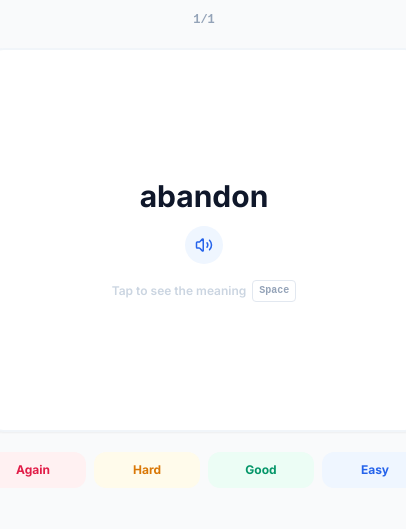
Test: PersonalFlashcardSession › a genuine failure shows an inline error
This screenshot has width=406, height=529.
Step 1. Click the button "Good" → x=261, y=470, box [208,452,314,488]
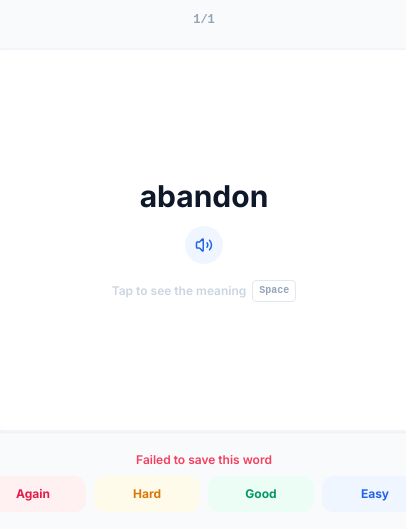
expect the message "Failed to save this word" is shown: met, box [136,452,272,467]
